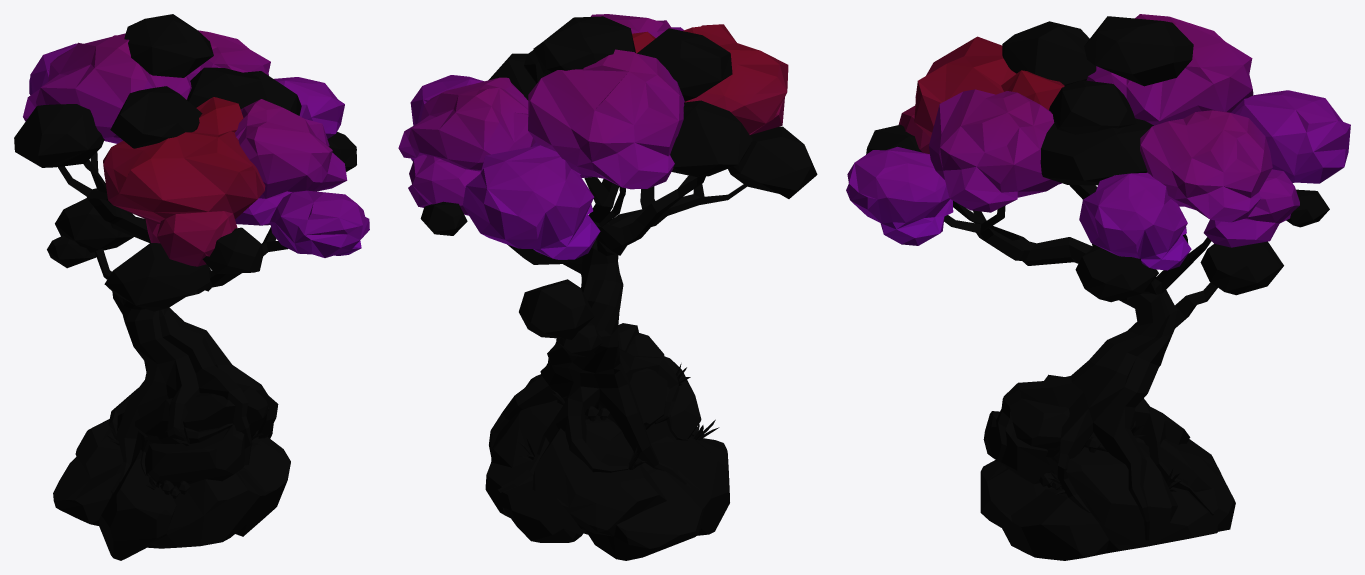
File: SM_Env_Big_Tree_01.glb
3 views of the same model, side by side, from view 1: azimuth 30°, elevation 25°; view 2: azimuth 150°, elevation 25°; view 3: azimuth 270°, elevation 25° (orthographic). The views are drawn at different scales.
Visible parts, largest first — view 1: SM_Env_Big_Tree_01; view 2: SM_Env_Big_Tree_01; view 3: SM_Env_Big_Tree_01.
Boxes of the visible parts, <box> form: SM_Env_Big_Tree_01: <box>14,14,369,560</box>; SM_Env_Big_Tree_01: <box>398,14,817,560</box>; SM_Env_Big_Tree_01: <box>846,14,1350,560</box>.
Size of the model in its own units: 8.76 by 12.74 by 10.98.
